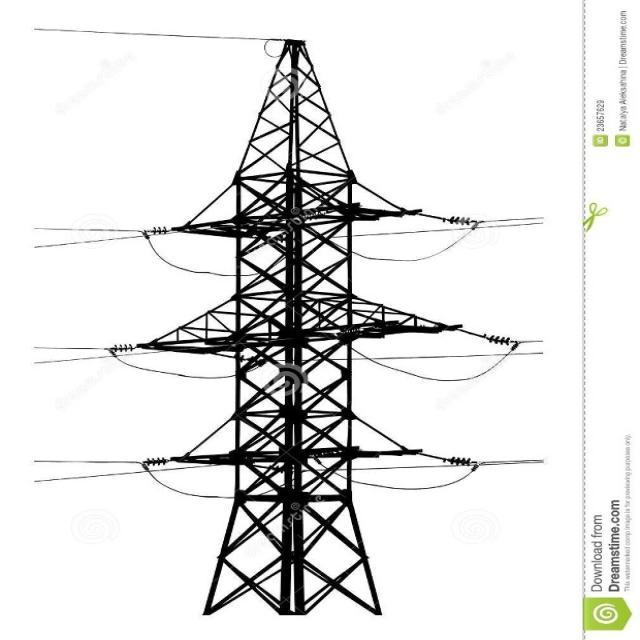non-critical vegetation: (176, 46, 452, 612)
